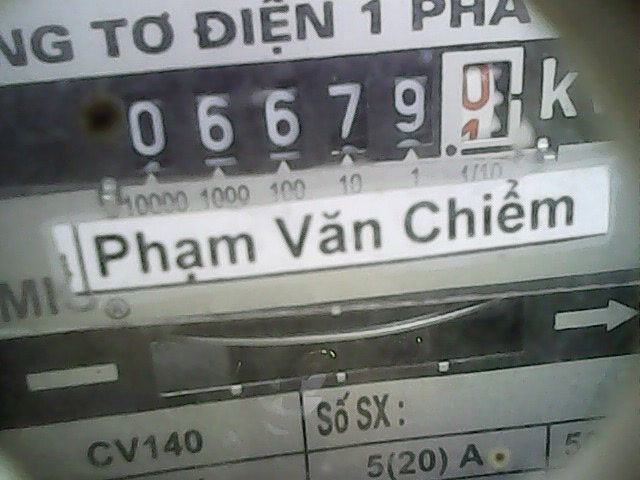phy_plate: (97, 41, 534, 173)
